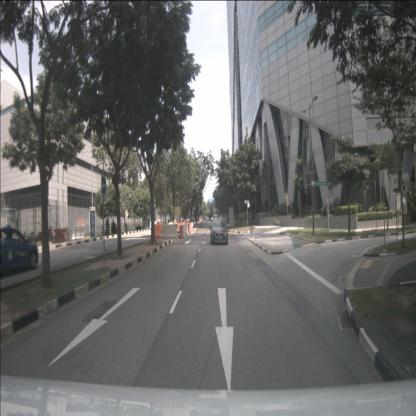barrier: (160, 224, 178, 238), (55, 228, 66, 242), (64, 230, 73, 242), (180, 223, 184, 237), (182, 224, 186, 236), (184, 224, 187, 236), (186, 223, 189, 235), (190, 222, 192, 234)
